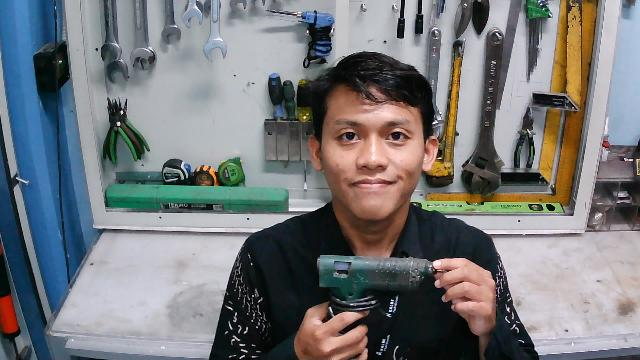gun_lem: (315, 245, 445, 346)
